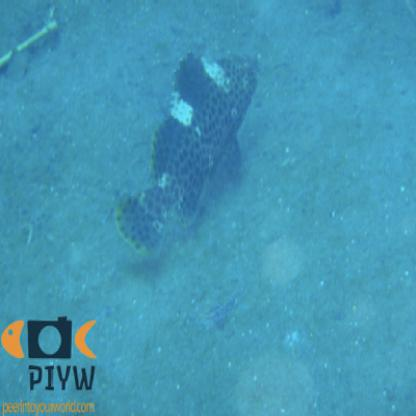Serranidae -Groupers-: (114, 40, 261, 265)
